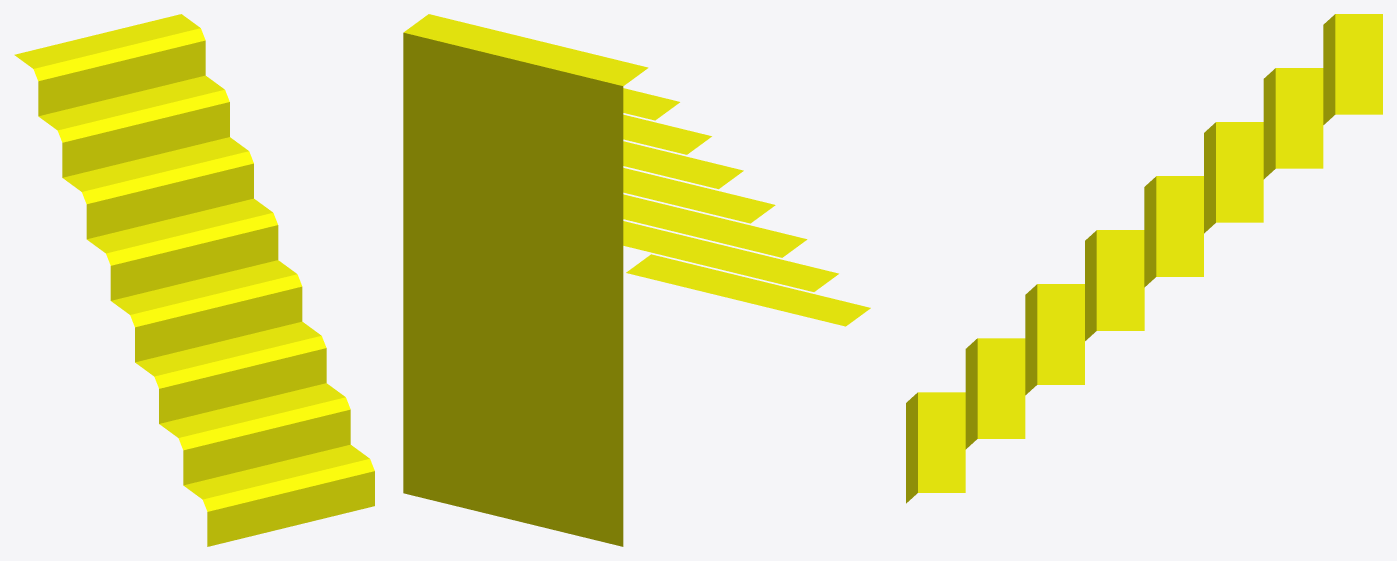
Rendered from kaykit-stairs-modular-center.glb.
3 renders of one model, left to right at view 1: azimuth 30°, elevation 25°; view 2: azimuth 150°, elevation 25°; view 3: azimuth 270°, elevation 25°, orthographic. The views are drawn at different scales.
Visible parts, largest first — view 1: stairs_modular_center; view 2: stairs_modular_center; view 3: stairs_modular_center.
Part boxes in pixels (bbox=[...]): stairs_modular_center: bbox=[14, 14, 374, 546]; stairs_modular_center: bbox=[403, 14, 870, 546]; stairs_modular_center: bbox=[906, 14, 1382, 503].
Size of the model in its own units: 2 by 4 by 4.
